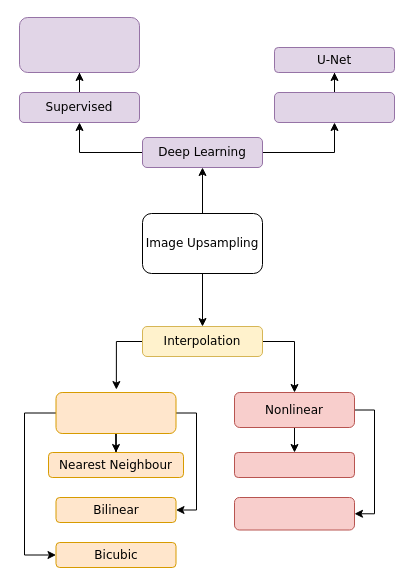
The diagram is 412 pixels wide and 585 high, and some of its shapes have lost their labels. Each missing label, with the box of its shape:
Convolutional Neural Network (CNN): (18, 16, 140, 72)
Laplacian Shaperning: (234, 496, 354, 530)
Linear: (55, 392, 176, 434)
Unsharp Masking: (234, 452, 354, 478)
Unsupervised: (274, 92, 394, 122)
